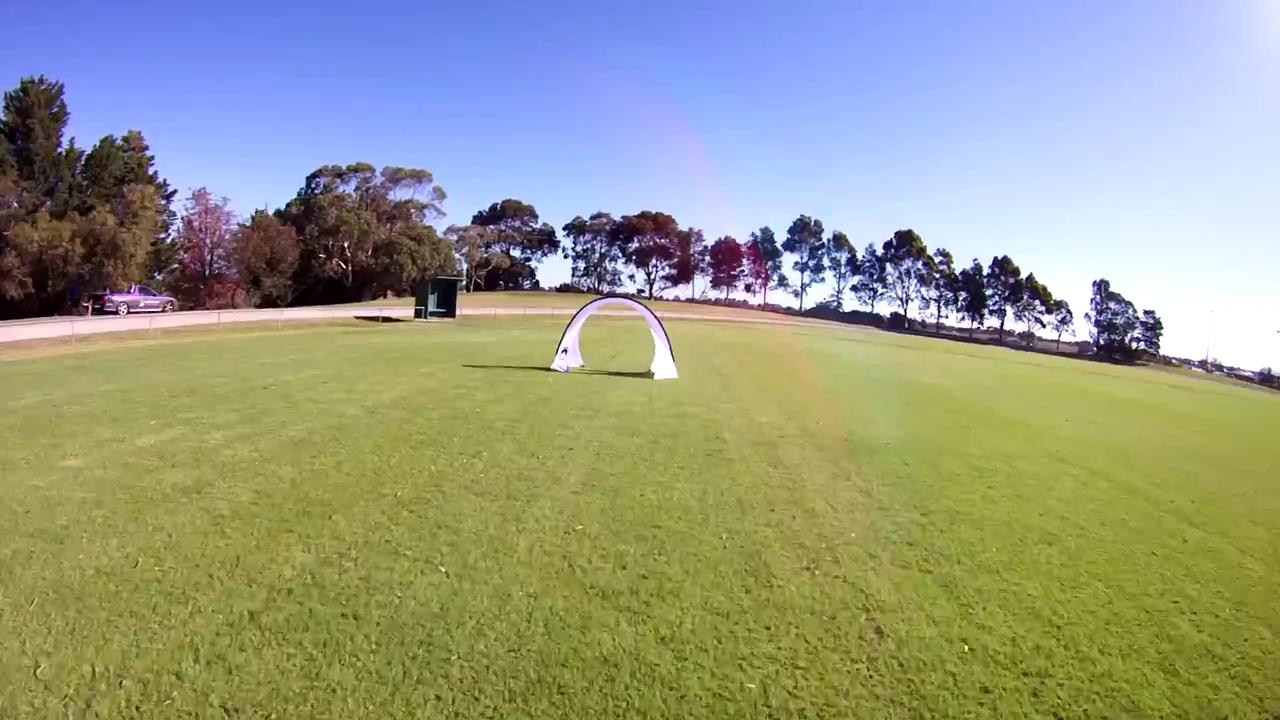gate: (549, 297, 682, 383)
